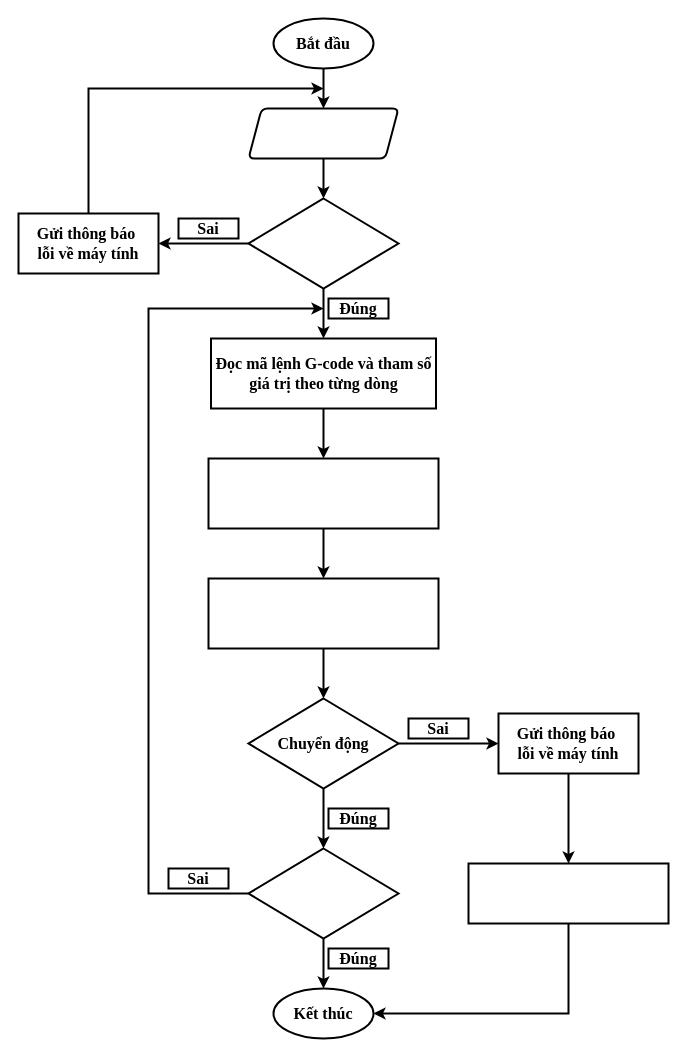
The diagram is 686 pixels wide and 1056 high, and some of its shapes have lost their labels. The shapes that lost their labels are listed below. From the top down, each one's box as (x1, y1, x2, y2) in pixels, then its label:
(247, 107, 399, 159): Nhập file G-code
(247, 197, 399, 289): Kiểm tra mã G-code
(207, 457, 439, 529): Chuyển đổi G-code sang Unit8 (dữ liệu số nguyên 8 bit 0 và 1)
(207, 577, 439, 649): Gửi mã chuyển đổi đến IC ULN2003
(247, 847, 399, 939): Kết thúc mã G-code
(467, 862, 669, 924): Reset lại chương trình Nhấc bút(M5) Về tọa độ gốc(G1 X0 Y0)
